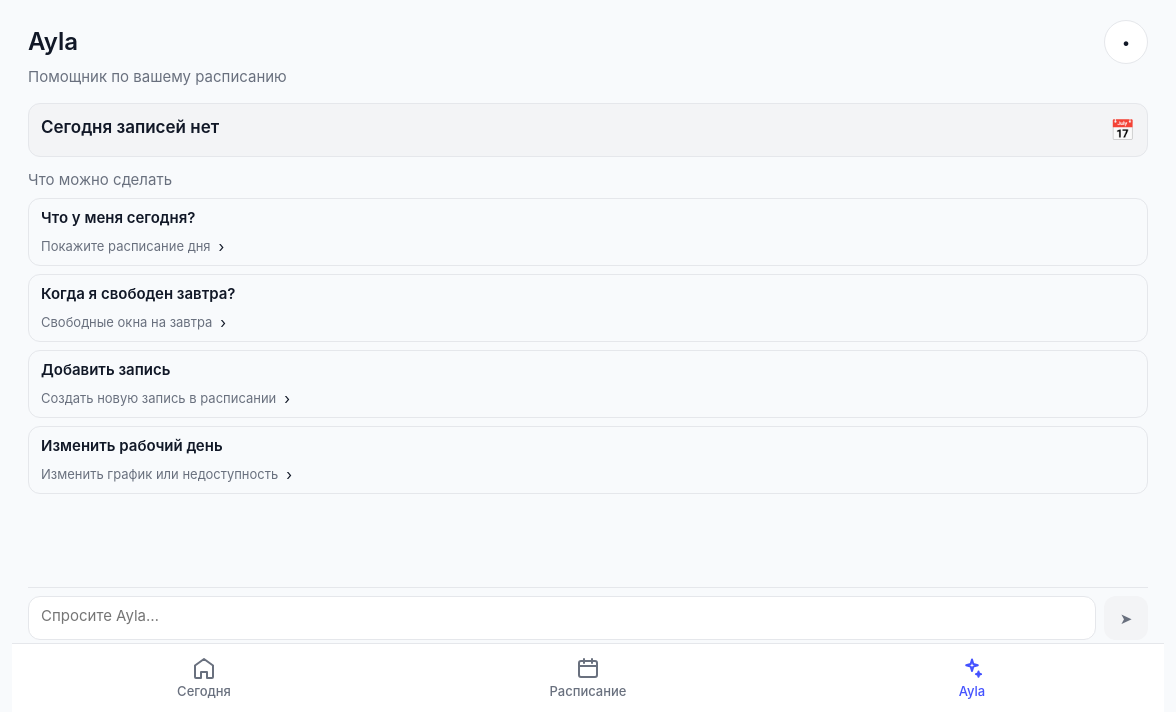
Test case: мёртвый талон › убирает карточку — обречённой кнопки на экране не остаётся
Type "хочу выходной" into the text box named "Вопрос к Ayla". click: {"x": 562, "y": 618}
box: [28,596,1096,640]
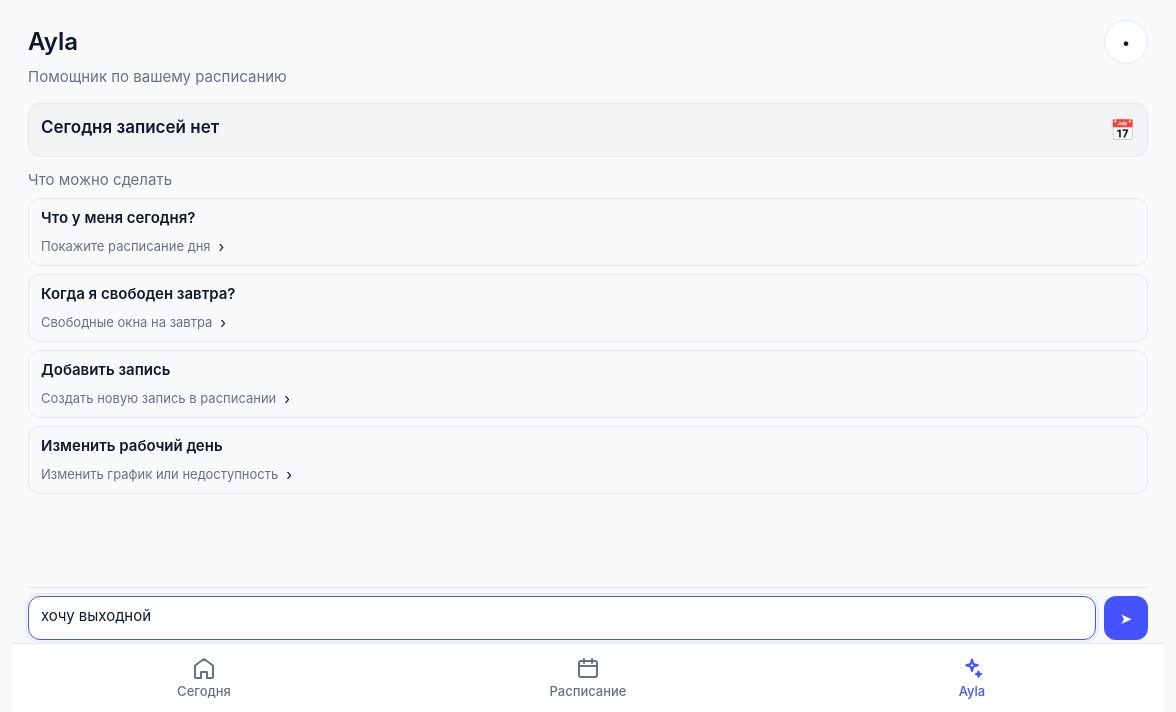
Click the button named "Отправить". click: {"x": 1126, "y": 618}
box: [1104,596,1148,640]
(page scrolled)
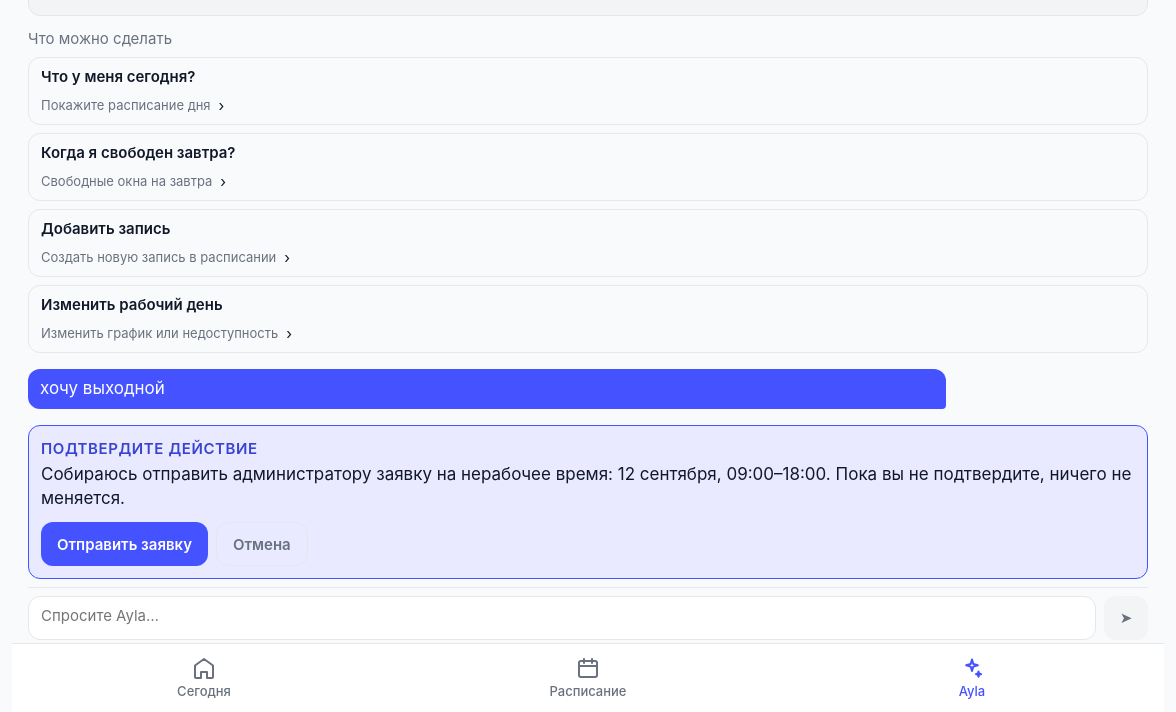
Expected: the button "Отправить заявку" is shown
Click the button "Отправить заявку". click: {"x": 124, "y": 544}
box: [41,522,208,566]
(page scrolled)
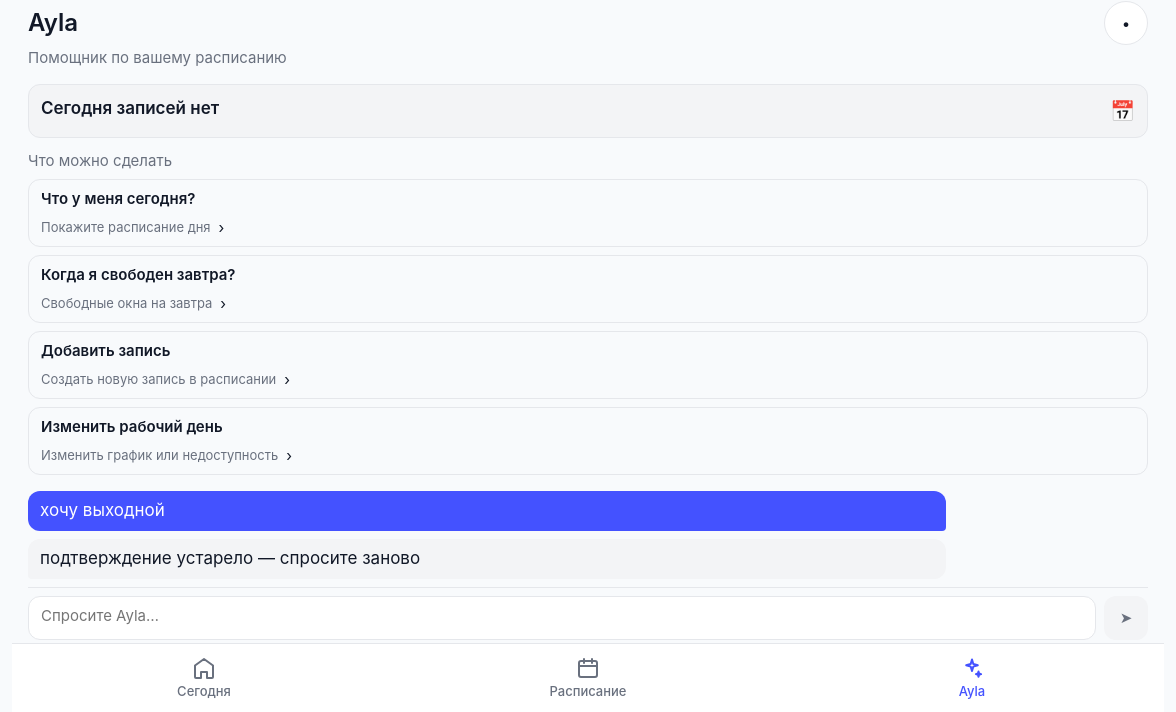
Expected: the button "Отправить заявку" is gone
Expected: the button "Отмена" is gone
